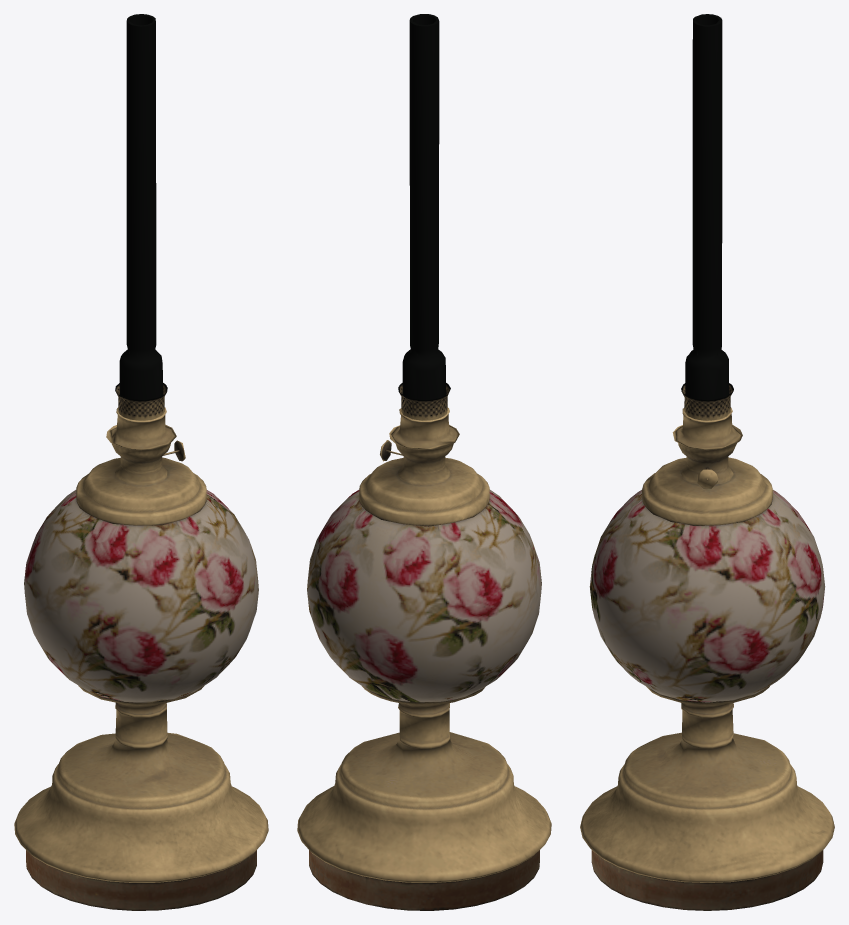
Rendered from vintage_oil_lamp.glb.
The picture shows the model from 3 angles, left to right: view 1: azimuth 30°, elevation 25°; view 2: azimuth 150°, elevation 25°; view 3: azimuth 270°, elevation 25°; orthographic projection.
Parts seen in each view (by area): view 1: vintage_oil_lamp, vintage_oil_lamp_glass; view 2: vintage_oil_lamp, vintage_oil_lamp_glass; view 3: vintage_oil_lamp, vintage_oil_lamp_glass.
Part boxes in pixels (x1,y1,x2,y2): vintage_oil_lamp: (14, 407, 268, 910); vintage_oil_lamp_glass: (115, 14, 167, 420); vintage_oil_lamp: (297, 407, 551, 910); vintage_oil_lamp_glass: (398, 14, 450, 420); vintage_oil_lamp: (580, 407, 834, 910); vintage_oil_lamp_glass: (681, 14, 733, 420).
Bounding box in the file's own units: 0.22 × 0.8016 × 0.22.
Materials: 3 (3 with a texture image).
